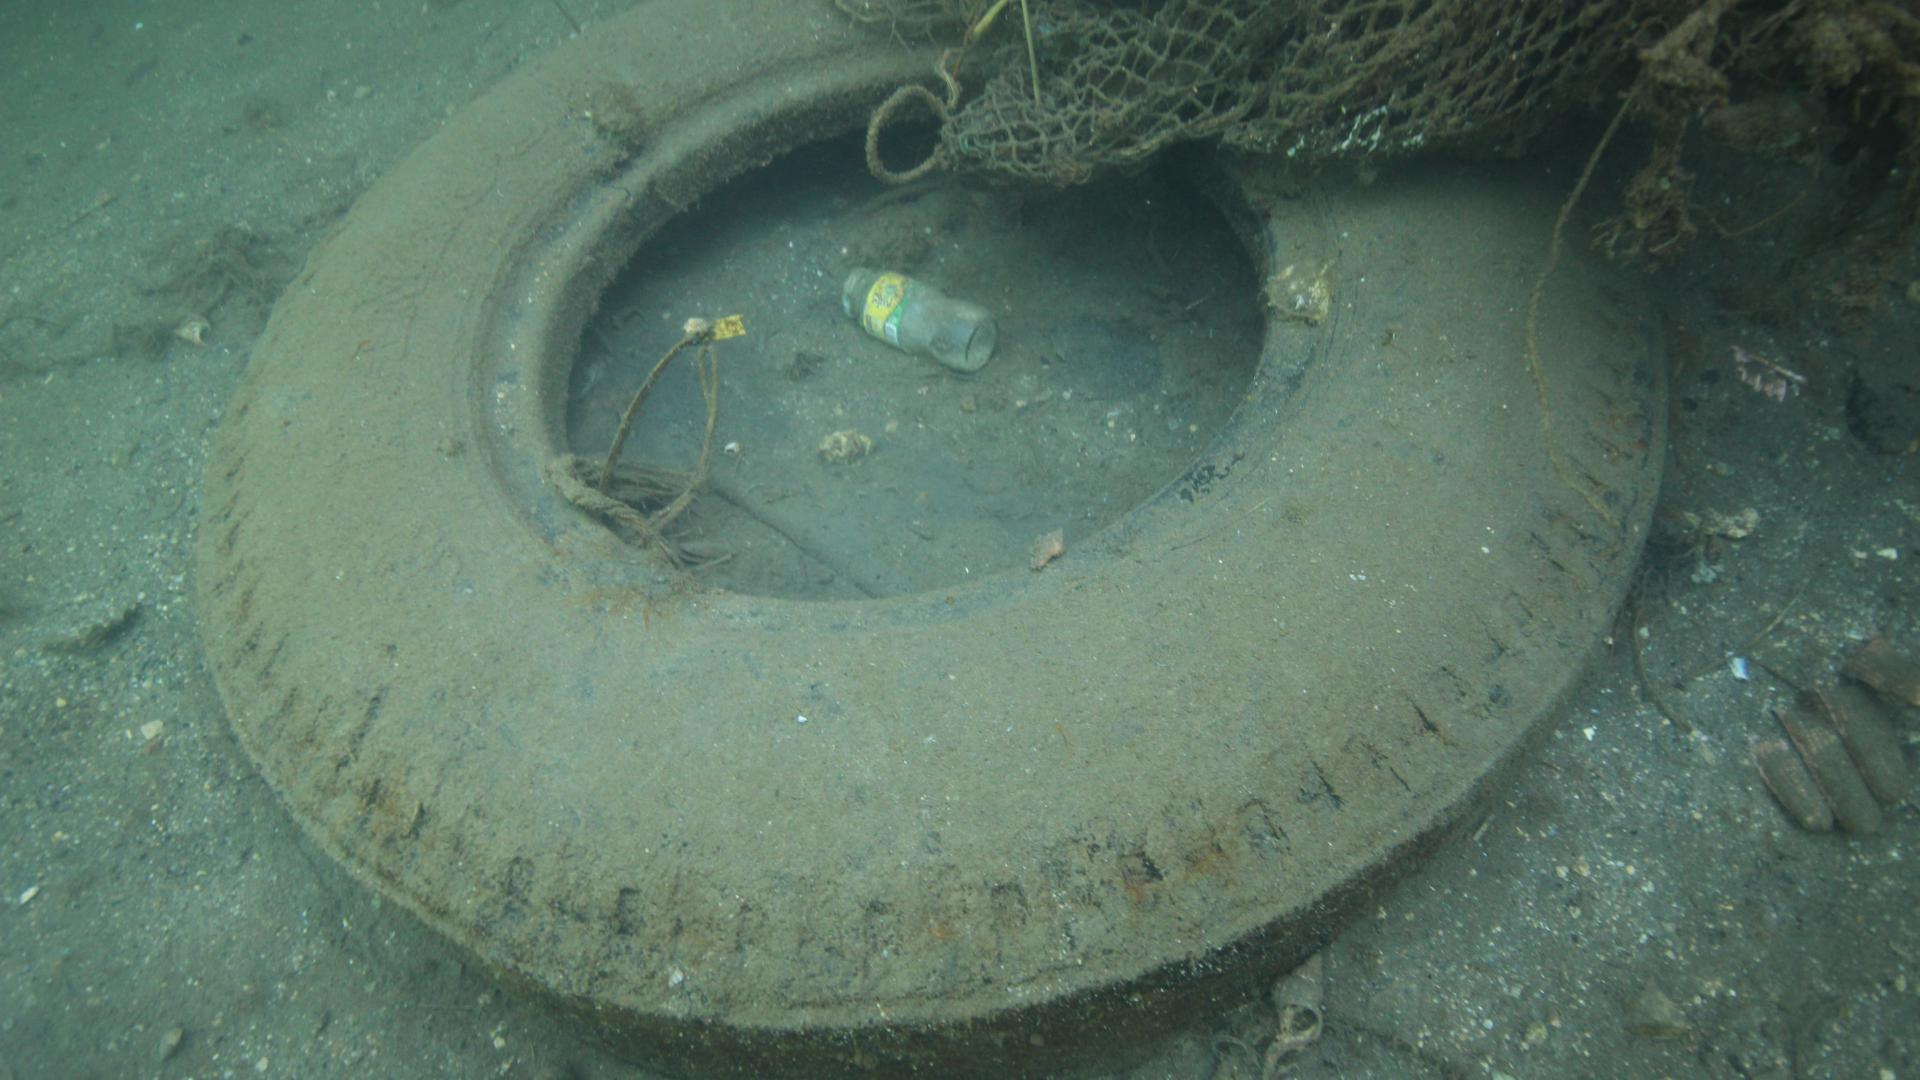fish net: (961, 0, 1662, 179)
tire: (194, 0, 1676, 1080)
